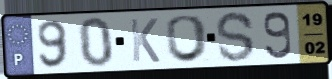0: (73, 16, 117, 69)
9: (35, 19, 70, 70), (261, 10, 293, 60)
K: (128, 17, 162, 64)
O: (164, 13, 211, 64)
S: (214, 10, 257, 65)
